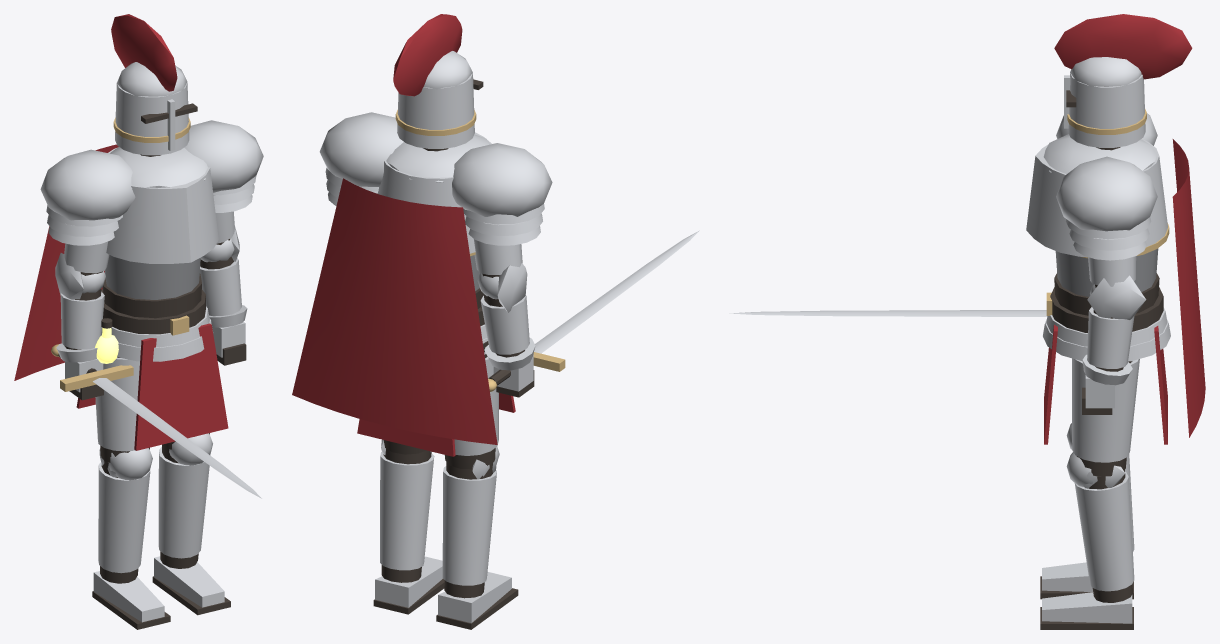
File: warrior.glb
The picture shows the model from 3 angles, left to right: view 1: azimuth 30°, elevation 25°; view 2: azimuth 150°, elevation 25°; view 3: azimuth 270°, elevation 25°; orthographic projection. The views are drawn at different scales.
Visible parts, largest first — view 1: w_hips, w_chest, w_head, w_shoulder_R, w_shin_R, w_shin_L, w_shoulder_L, cape, w_forearm_R, w_spine, sword, w_thigh_R (+8 smaller); view 2: cape, w_head, w_shoulder_R, w_shin_R, w_shin_L, w_shoulder_L, w_chest, w_forearm_R, sword, w_foot_R, w_foot_L, w_hips (+3 smaller); view 3: w_head, w_shoulder_L, w_chest, w_shin_L, w_hips, cape, w_thigh_L, w_forearm_L, w_foot_L, w_spine, sword, w_hand_L (+2 smaller).
Boxes of the visible parts, bbox=[...] form: w_hips: bbox=[76, 273, 228, 450]; w_chest: bbox=[106, 147, 218, 263]; w_head: bbox=[111, 14, 197, 155]; w_shoulder_R: bbox=[40, 149, 135, 245]; w_shin_R: bbox=[98, 448, 152, 583]; w_shin_L: bbox=[158, 433, 212, 568]; w_shoulder_L: bbox=[184, 120, 263, 212]; cape: bbox=[14, 144, 118, 380]; w_forearm_R: bbox=[55, 253, 105, 349]; w_spine: bbox=[105, 255, 200, 299]; sword: bbox=[51, 344, 261, 498]; w_thigh_R: bbox=[95, 357, 149, 462]; cape: bbox=[292, 178, 497, 444]; w_head: bbox=[393, 14, 483, 148]; w_shoulder_R: bbox=[452, 143, 552, 245]; w_shin_R: bbox=[442, 446, 499, 598]; w_shin_L: bbox=[380, 439, 434, 582]; w_shoulder_L: bbox=[319, 112, 403, 205]; w_chest: bbox=[377, 132, 491, 256]; w_forearm_R: bbox=[477, 263, 529, 357]; sword: bbox=[488, 230, 699, 391]; w_foot_R: bbox=[436, 572, 518, 629]; w_foot_L: bbox=[373, 556, 444, 614]; w_hips: bbox=[357, 288, 515, 456]; w_head: bbox=[1054, 14, 1192, 147]; w_shoulder_L: bbox=[1056, 156, 1157, 260]; w_chest: bbox=[1026, 134, 1169, 258]; w_shin_L: bbox=[1066, 452, 1134, 602]; w_hips: bbox=[1043, 273, 1170, 444]; cape: bbox=[1172, 139, 1205, 437]; w_thigh_L: bbox=[1072, 358, 1139, 476]; w_forearm_L: bbox=[1087, 275, 1146, 371]; w_foot_L: bbox=[1040, 592, 1133, 629]; w_spine: bbox=[1055, 248, 1158, 296]; sword: bbox=[729, 310, 1047, 316]; w_hand_L: bbox=[1082, 354, 1132, 414].
Size of the model in its own units: 0.7625 by 1.99 by 1.45.
